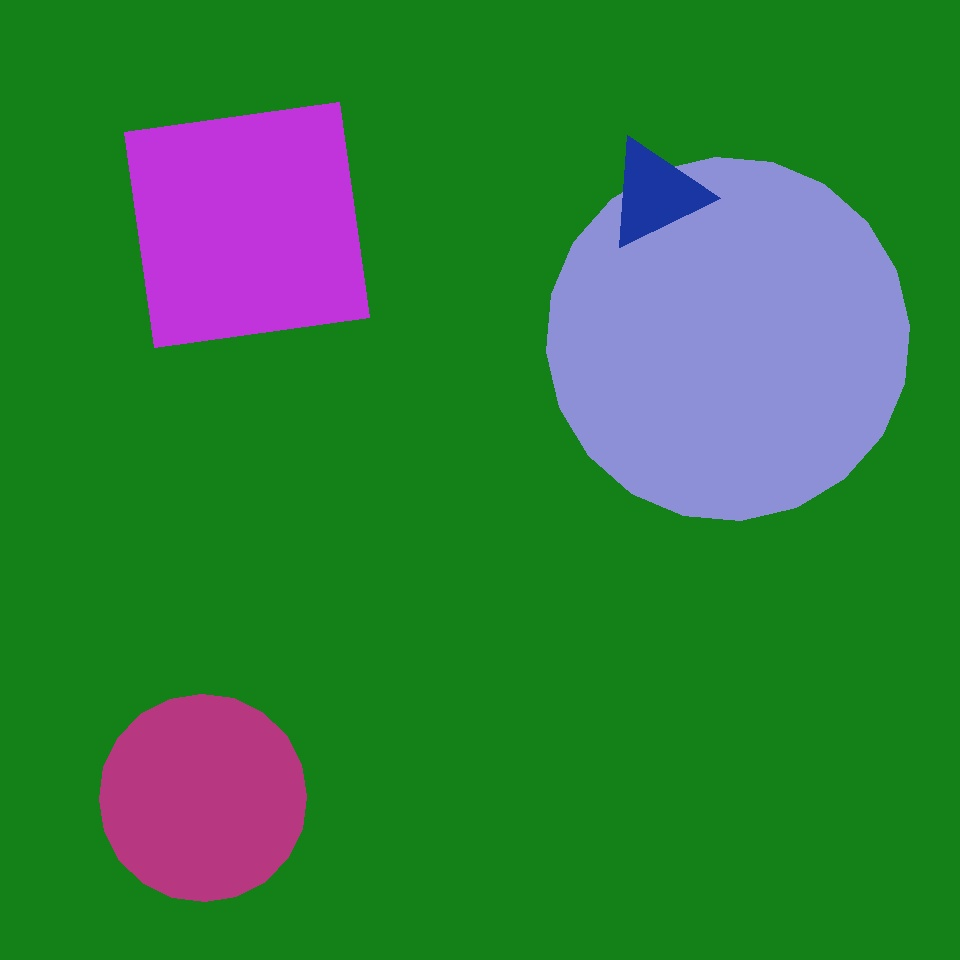circle: (359, 282, 612, 536), (113, 41, 225, 155), (606, 138, 706, 250)
square: (160, 473, 485, 798), (124, 103, 370, 347), (85, 370, 314, 598)
triangle: (546, 158, 910, 520), (535, 425, 752, 642), (100, 695, 306, 902)
